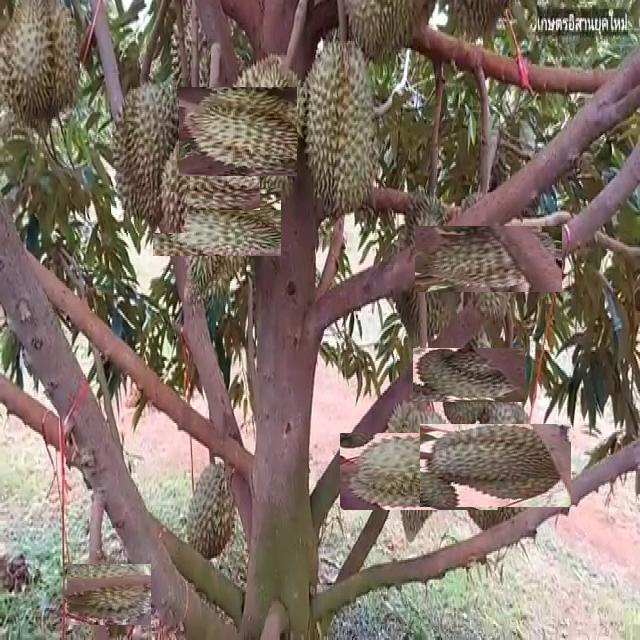durian: (198, 68, 326, 195), (297, 35, 375, 226), (360, 412, 478, 530), (437, 407, 555, 524), (111, 74, 188, 233), (387, 207, 467, 355), (435, 205, 541, 313), (3, 1, 84, 126), (146, 124, 246, 225), (168, 173, 267, 271), (427, 334, 511, 417), (183, 455, 241, 566), (72, 558, 145, 631), (339, 0, 415, 66)
